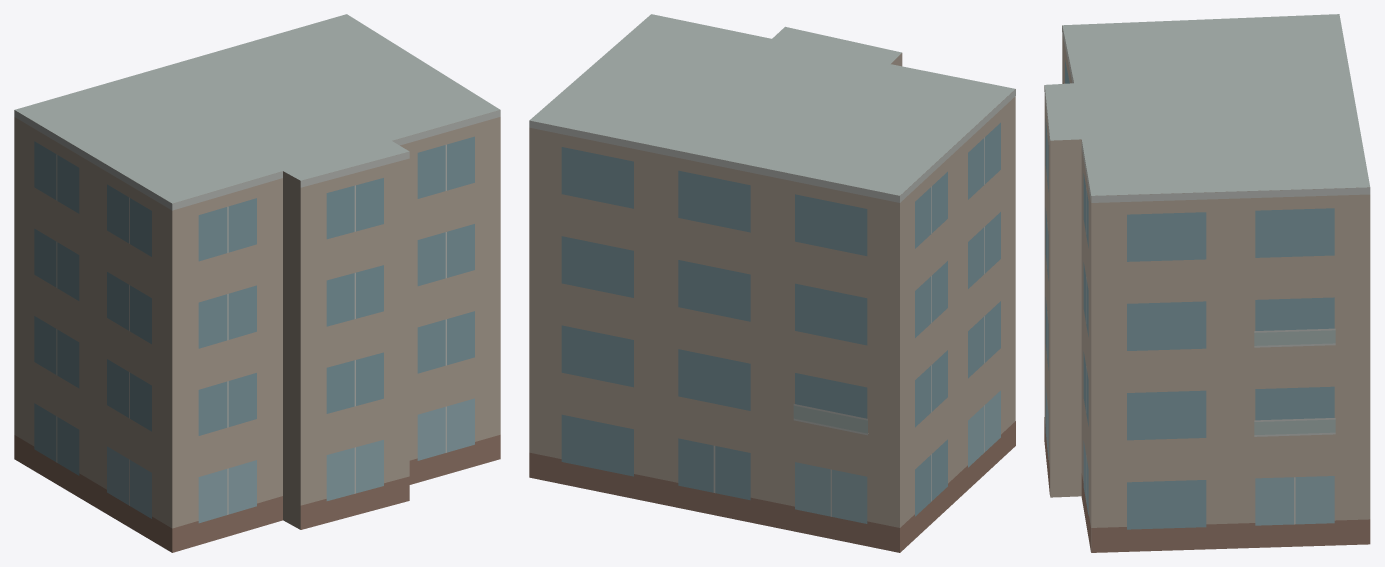
Rendered from survey-upis-32664161.glb.
3 views of the same model, side by side, from view 1: azimuth 30°, elevation 25°; view 2: azimuth 150°, elevation 25°; view 3: azimuth 270°, elevation 25° (orthographic). The views are drawn at different scales.
Visible parts, largest first — view 1: survey-upis-32664161.tmp; view 2: survey-upis-32664161.tmp; view 3: survey-upis-32664161.tmp.
Part boxes in pixels (left/top/right/bottom): survey-upis-32664161.tmp: left=14, top=14, right=500, bottom=552; survey-upis-32664161.tmp: left=529, top=14, right=1015, bottom=552; survey-upis-32664161.tmp: left=1044, top=14, right=1370, bottom=552.
Bounding box in the file's own units: 13.34 × 12.2 × 10.1.
